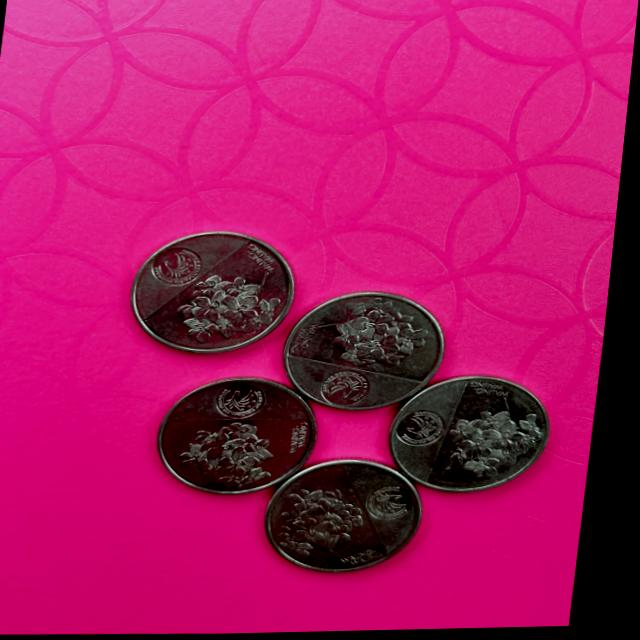1_New_Back: (451, 400, 555, 481), (317, 294, 427, 369), (182, 271, 293, 343), (282, 486, 382, 555), (183, 421, 289, 481)
